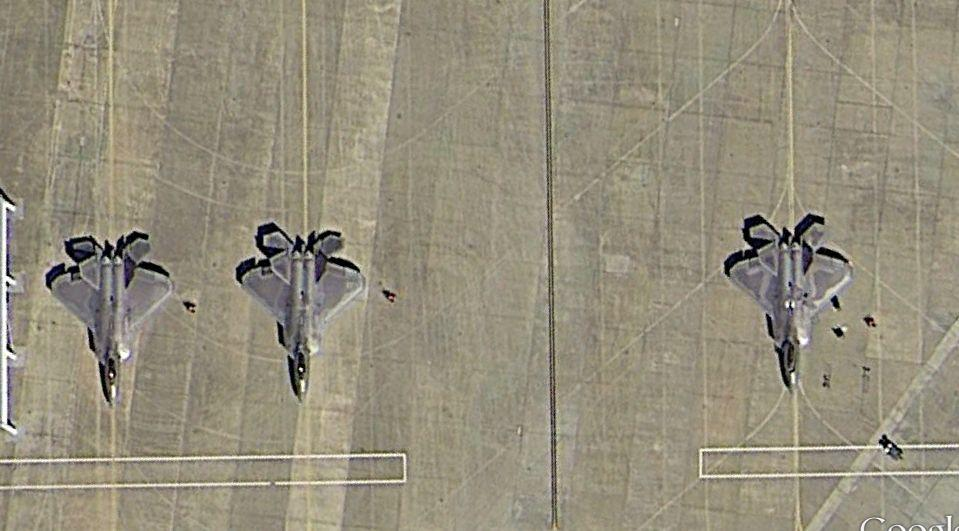F-22: (231, 225, 370, 406), (721, 213, 858, 392), (44, 234, 178, 407)
